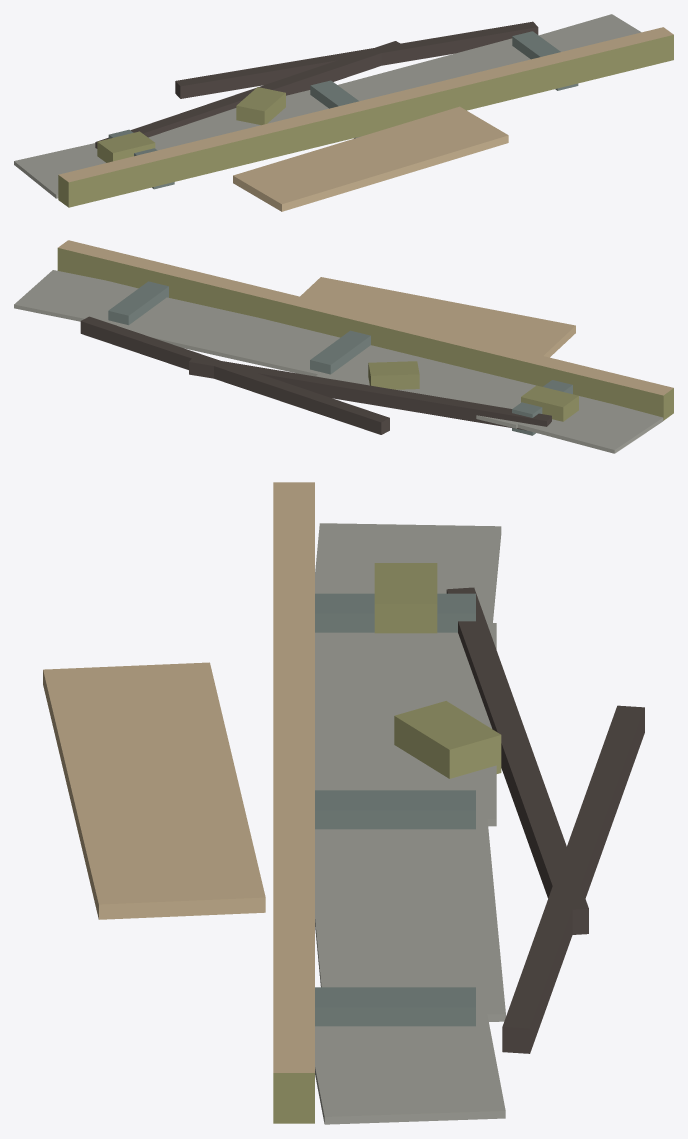
The model's file is SM_VallaBetera_MuroBajo_e4_Brecha_LOD1.fbx.
The picture shows the model from 3 angles, top to bottom: view 1: azimuth 30°, elevation 25°; view 2: azimuth 150°, elevation 25°; view 3: azimuth 270°, elevation 25°; orthographic projection. The views are drawn at different scales.
Parts seen in each view (by area): view 1: SM_valla_estados_v9_LOD1; view 2: SM_valla_estados_v9_LOD1; view 3: SM_valla_estados_v9_LOD1.
Boxes of the visible parts, x1,y1,x2,y2 form: SM_valla_estados_v9_LOD1: [14, 14, 673, 211]; SM_valla_estados_v9_LOD1: [14, 240, 673, 453]; SM_valla_estados_v9_LOD1: [43, 482, 644, 1124].
Bounding box in the file's own units: 10.05 × 0.52 × 4.31.
